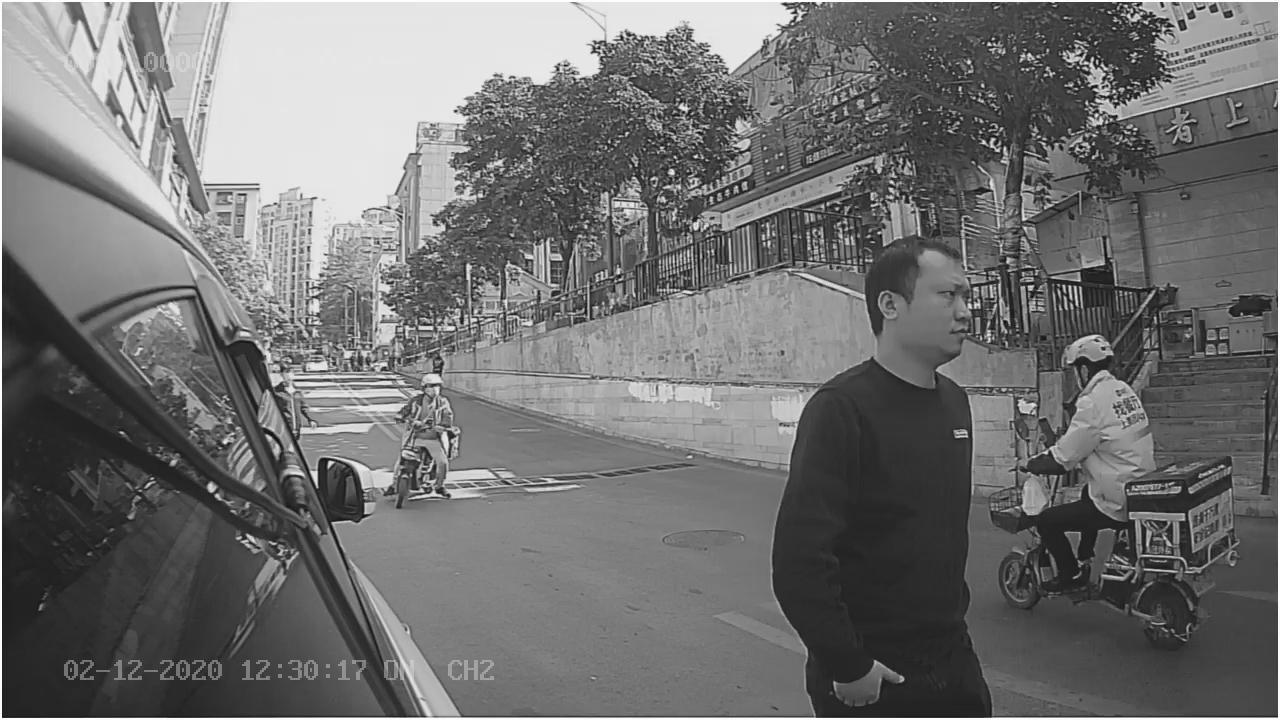person: (758, 230, 981, 550)
